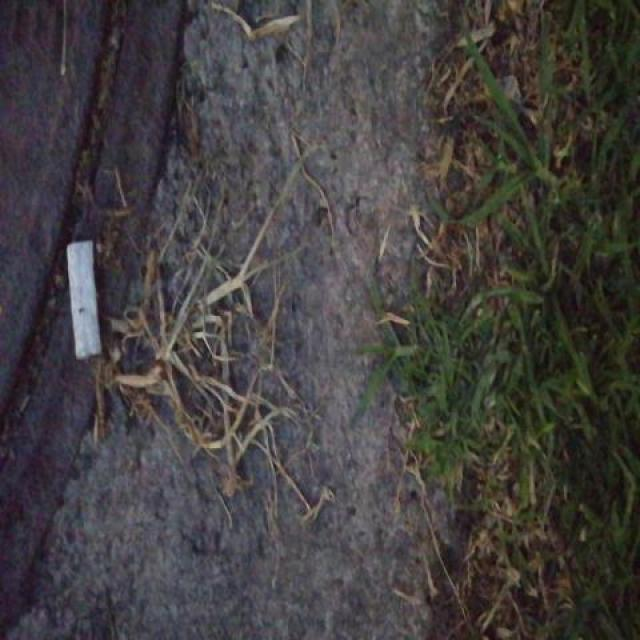non-organic waste: (61, 235, 107, 364)
